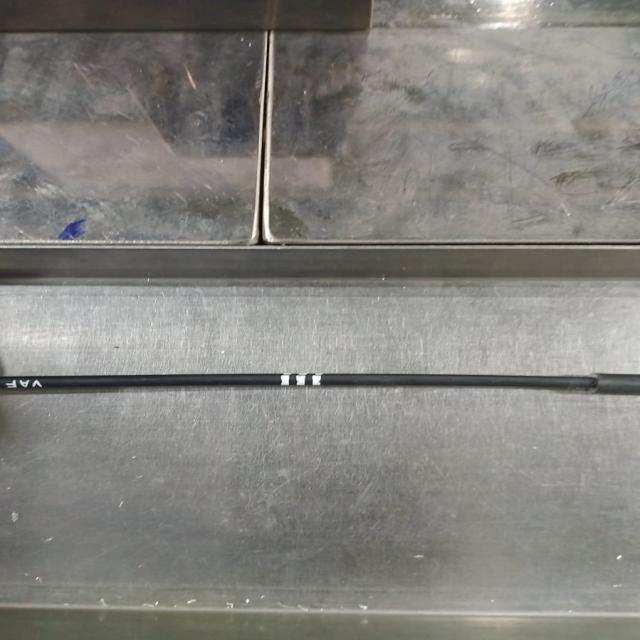white: (280, 372, 322, 387)
